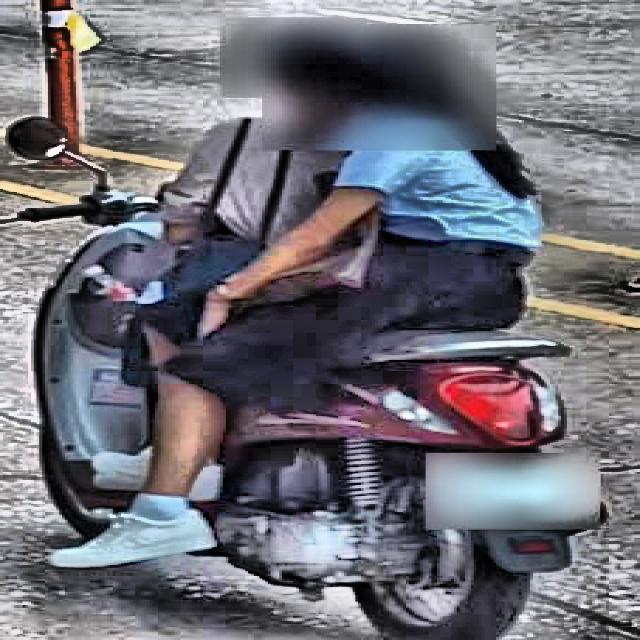motorcycle: (3, 100, 639, 640)
